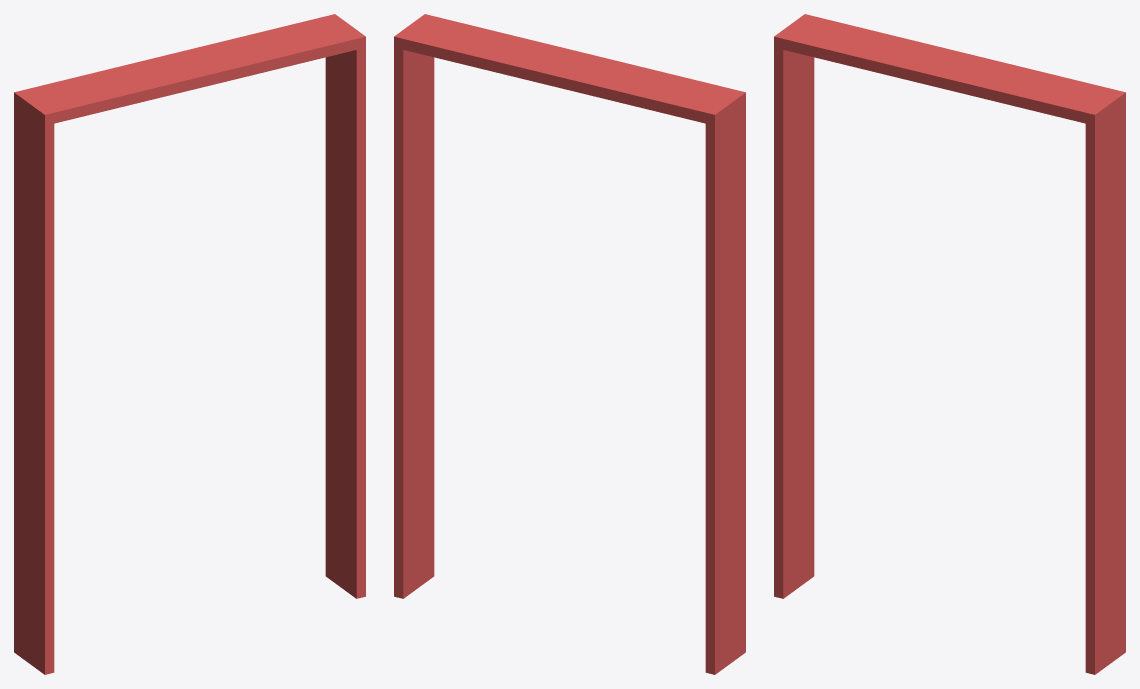
Rendered from D_Marco_Puerta.fbx.
3 views of the same model, side by side, from view 1: azimuth 30°, elevation 25°; view 2: azimuth 150°, elevation 25°; view 3: azimuth 330°, elevation 25° (orthographic).
Parts seen in each view (by area): view 1: Marco_Puerta; view 2: Marco_Puerta; view 3: Marco_Puerta.
Boxes of the visible parts, x1,y1,x2,y2 form: Marco_Puerta: (14, 14, 365, 674); Marco_Puerta: (394, 14, 745, 674); Marco_Puerta: (774, 14, 1125, 674).
Bounding box in the file's own units: 300 × 500 × 50.
